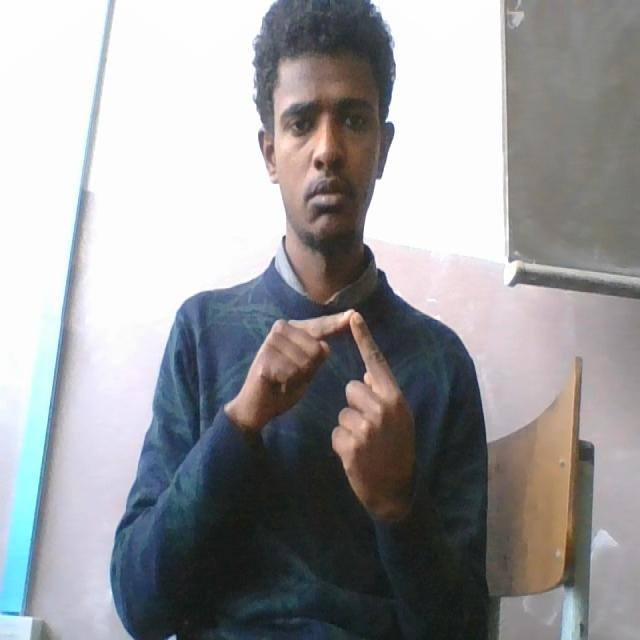wede: (234, 294, 423, 530)
